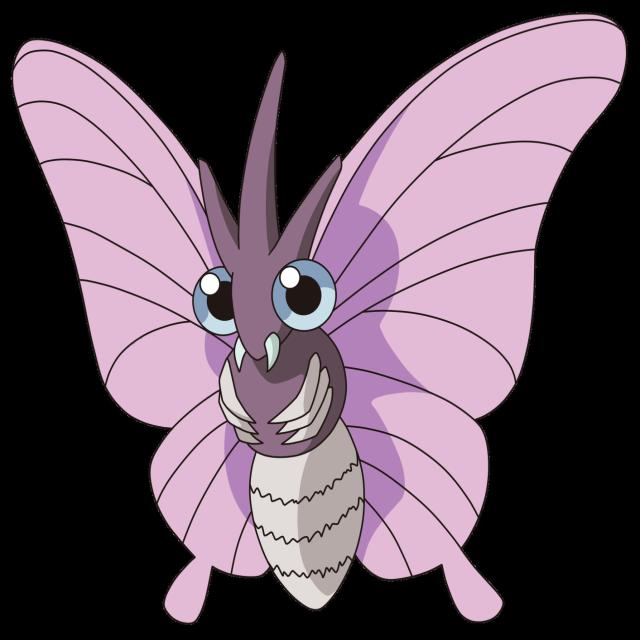Venomoth: (147, 134, 495, 616)
